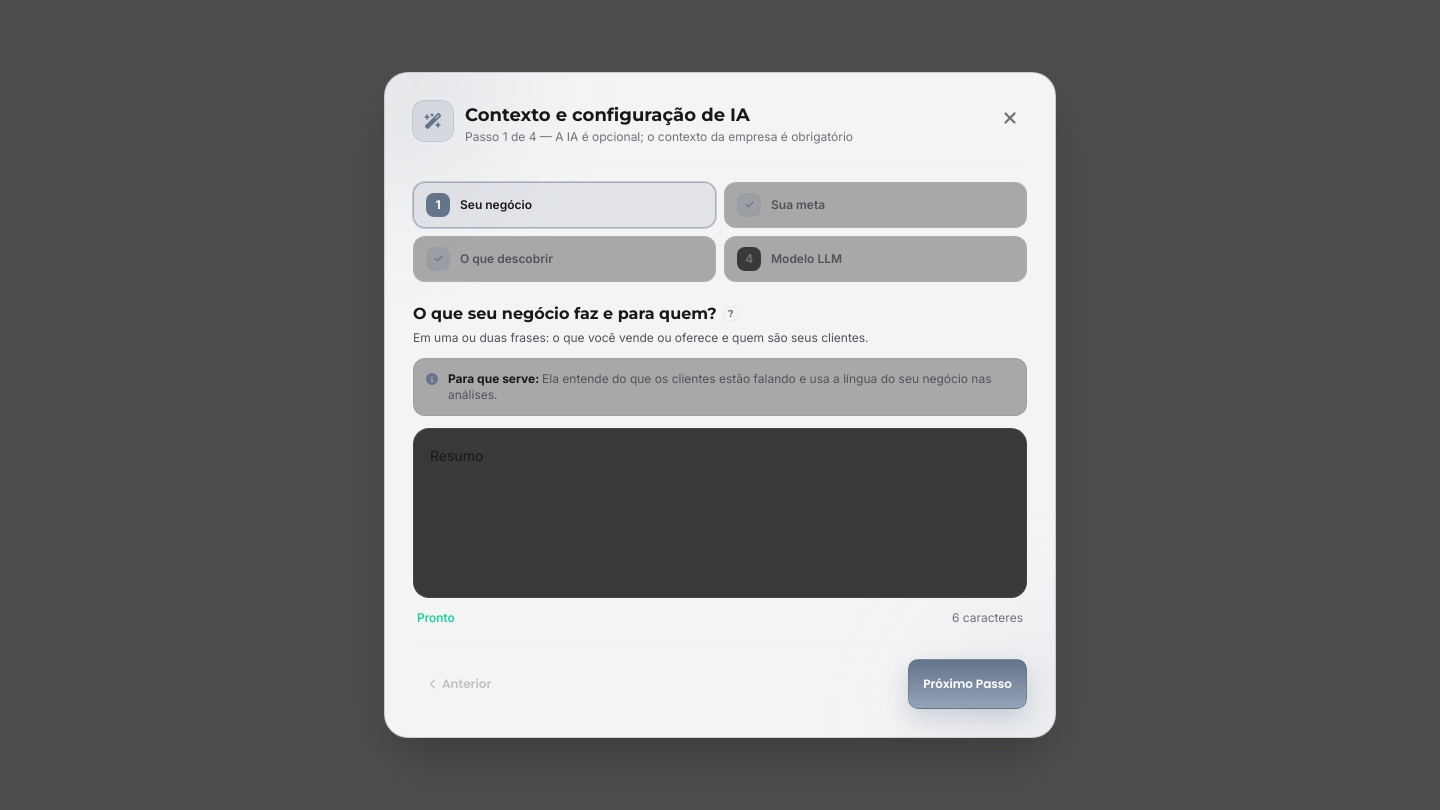
Scenario: [Unidade] Componentes e Contexto de Onboarding › escolha do modelo na etapa da LLM › sem chave, o seletor de modelo fica bloqueado até a chave ser digitada
The image size is (1440, 810).
Click the button with aria-label "4. Modelo LLM": click(807, 258) [724,236,1027,282]
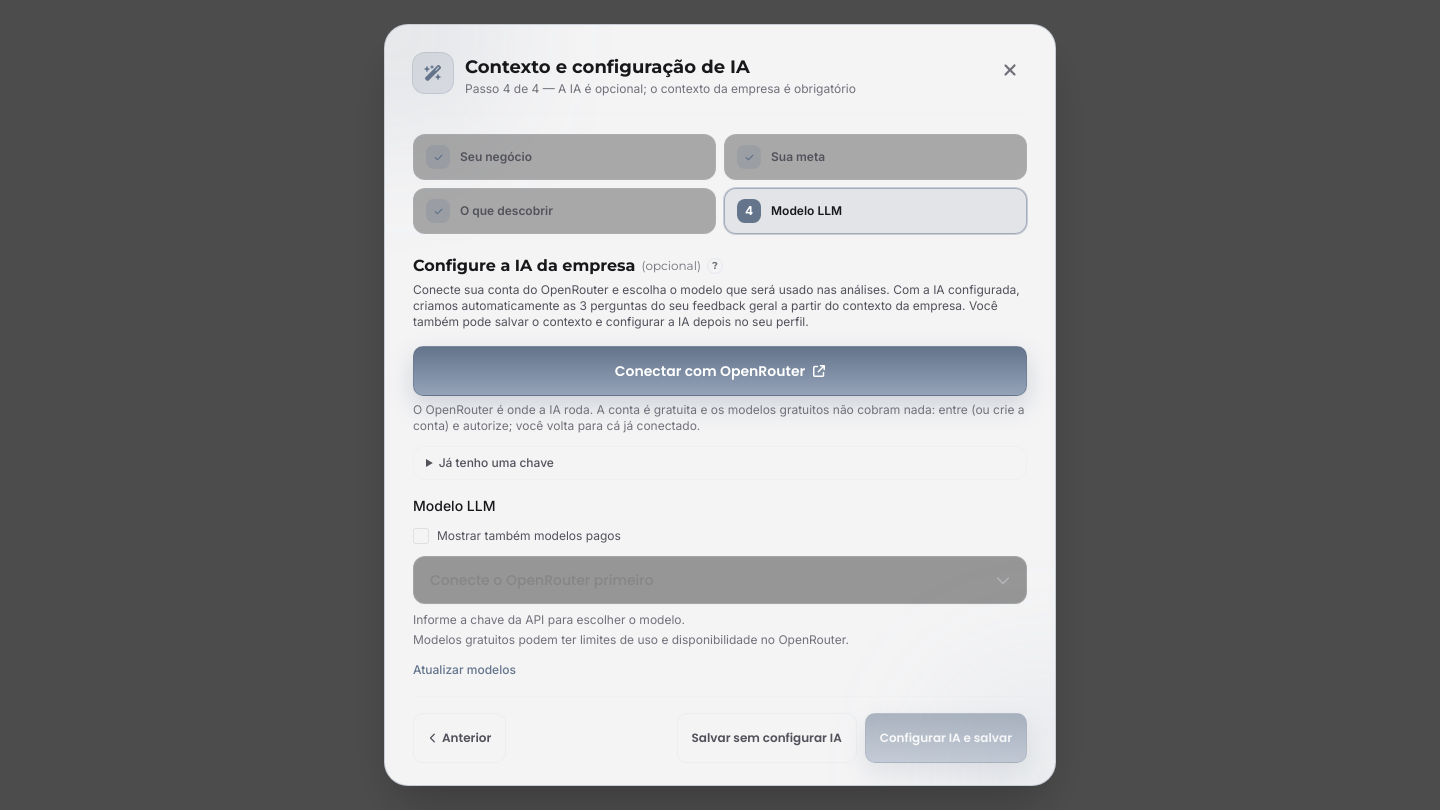
Now the dropdown named "Modelo LLM" is disabled, box [413,556,1027,604]
Now the text "Informe a chave da API para escolher o modelo." is shown, box [413,612,685,627]
Replace the text in the password field named "Chave da API OpenRouter" with "sk-or-v1-teste": (720, 463) [413,446,1027,480]
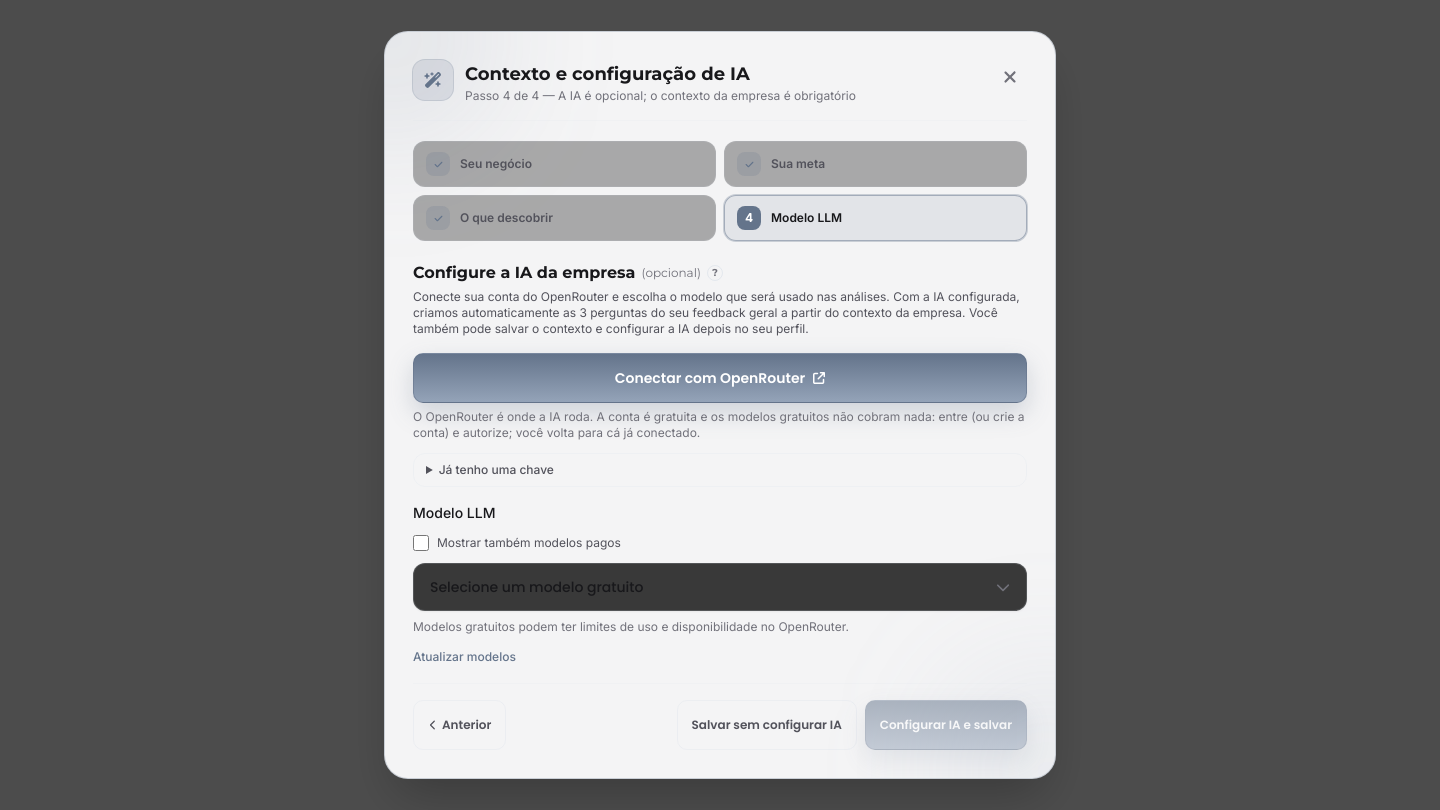
Now the dropdown named "Modelo LLM" is enabled, box [413,563,1027,611]
Now the text "Informe a chave da API para escolher o modelo." is gone
